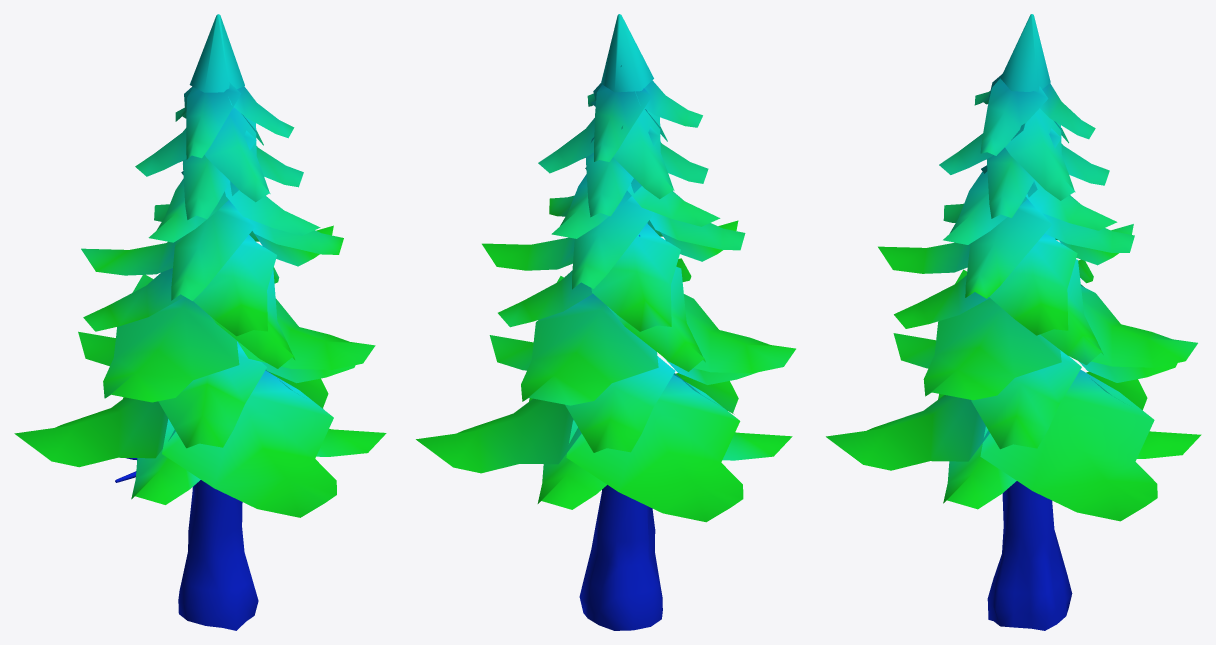
The model's file is m_Spruce_A_VertexPaint.fbx.
3 views of the same model, side by side, from view 1: azimuth 30°, elevation 25°; view 2: azimuth 150°, elevation 25°; view 3: azimuth 270°, elevation 25° (orthographic).
Visible parts, largest first — view 1: Spruce_A_LeafA, Spruce_A; view 2: Spruce_A_LeafA, Spruce_A; view 3: Spruce_A_LeafA, Spruce_A.
Boxes of the visible parts, x1,y1,x2,y2 form: Spruce_A_LeafA: (14, 14, 386, 517); Spruce_A: (115, 458, 258, 630); Spruce_A_LeafA: (416, 14, 795, 522); Spruce_A: (579, 485, 662, 630); Spruce_A_LeafA: (826, 14, 1201, 521); Spruce_A: (987, 481, 1072, 630).
Size of the model in its own units: 575 by 1087 by 610.
